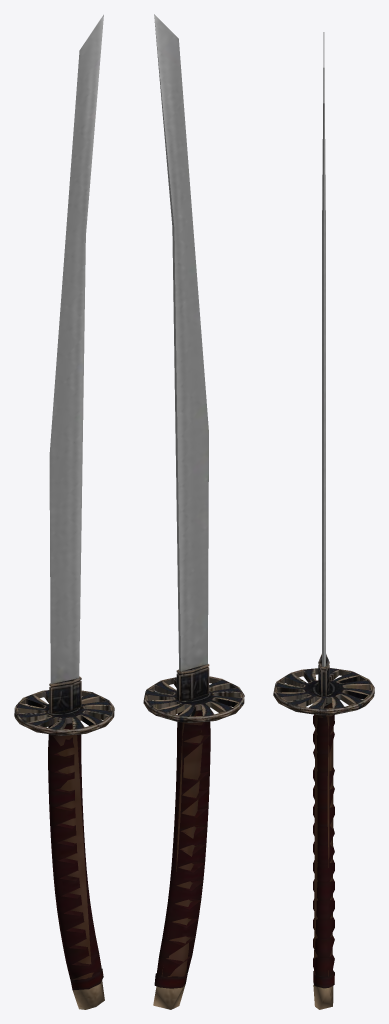
The model's file is antique_katana_01.glb.
3 renders of one model, left to right at view 1: azimuth 30°, elevation 25°; view 2: azimuth 210°, elevation 25°; view 3: azimuth 270°, elevation 25°, orthographic.
Parts seen in each view (by area): view 1: antique_katana_01; view 2: antique_katana_01; view 3: antique_katana_01.
Part boxes in pixels (box(x1,y1,x2,y2)): antique_katana_01: box(14, 14, 114, 1009); antique_katana_01: box(143, 14, 244, 1009); antique_katana_01: box(273, 32, 374, 1009).
Bounding box in the file's own units: 0.0919 × 1 × 0.0919.
Materials: 1 (1 with a texture image).
